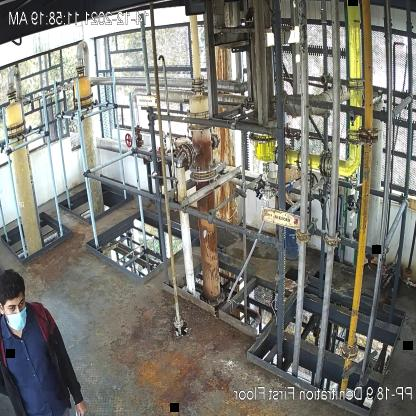no_goggles: (7, 297, 26, 313)
